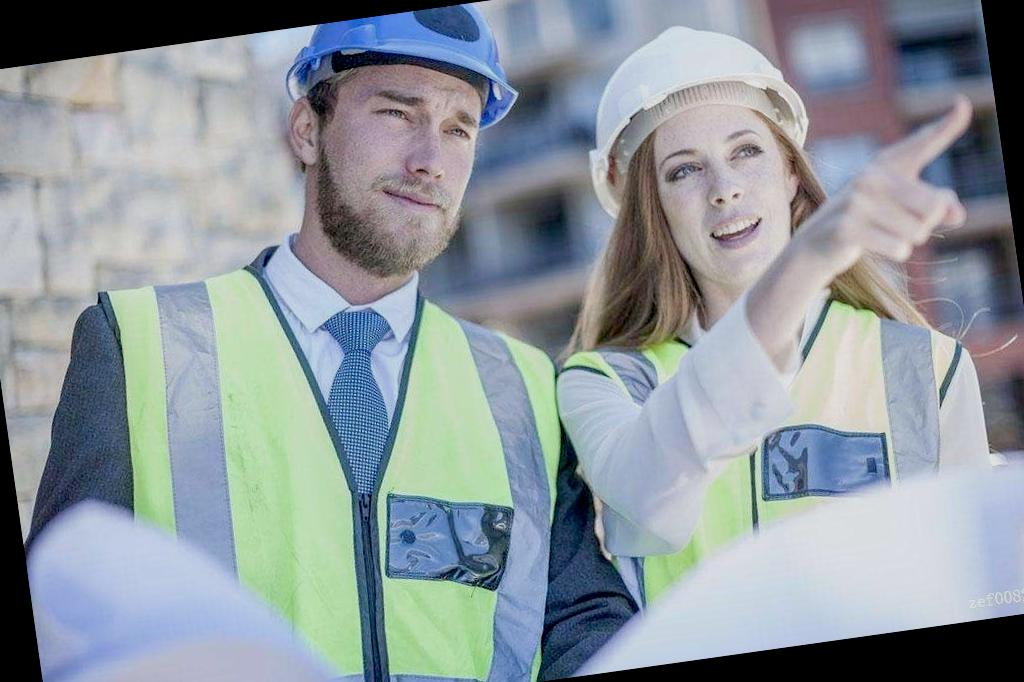helmet: (551, 0, 834, 191), (274, 0, 523, 161)
person: (21, 0, 615, 682), (533, 0, 1012, 623)
